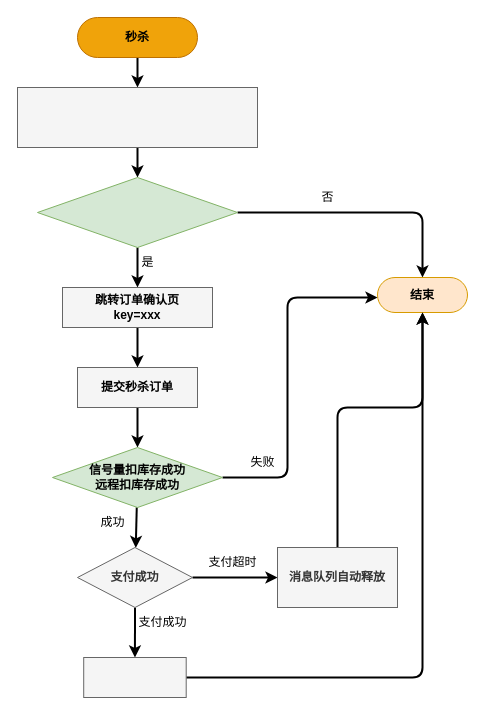
Image size: 485x715. Some labels were removed from this diagram. Each missing label, with the centre of its shape:
"剩下的流程，拆单等还是队列做" belongs at (x=134, y=677).
"商品详细页展示立即抢购按钮 seckill?key=随机码?skuId=xxx&num=1" belongs at (x=137, y=117).
"查询是否有这个商品 查询是否到秒杀时间" belongs at (x=137, y=212).
